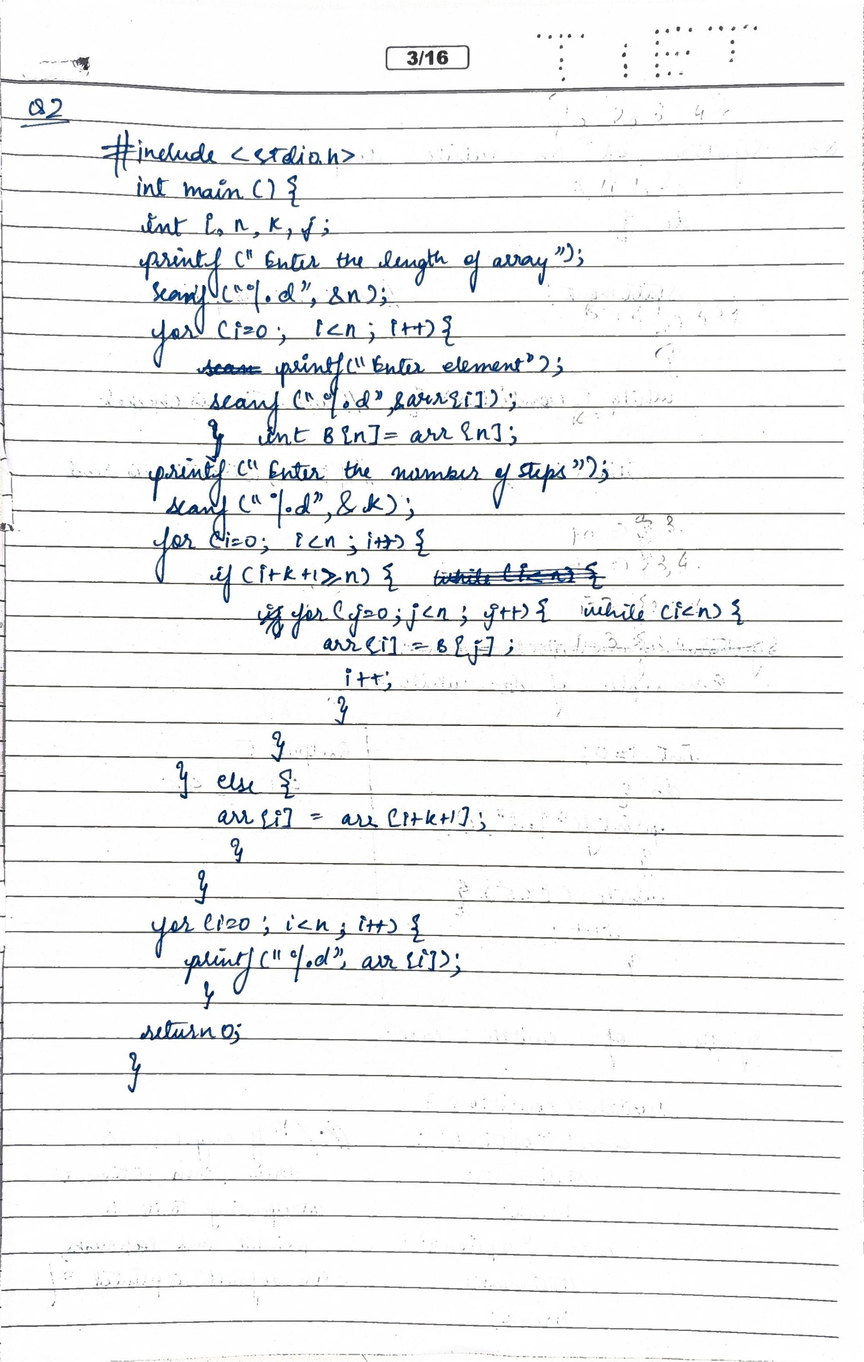cuttings: (432, 560, 606, 590), (195, 358, 263, 377), (257, 603, 285, 641)
